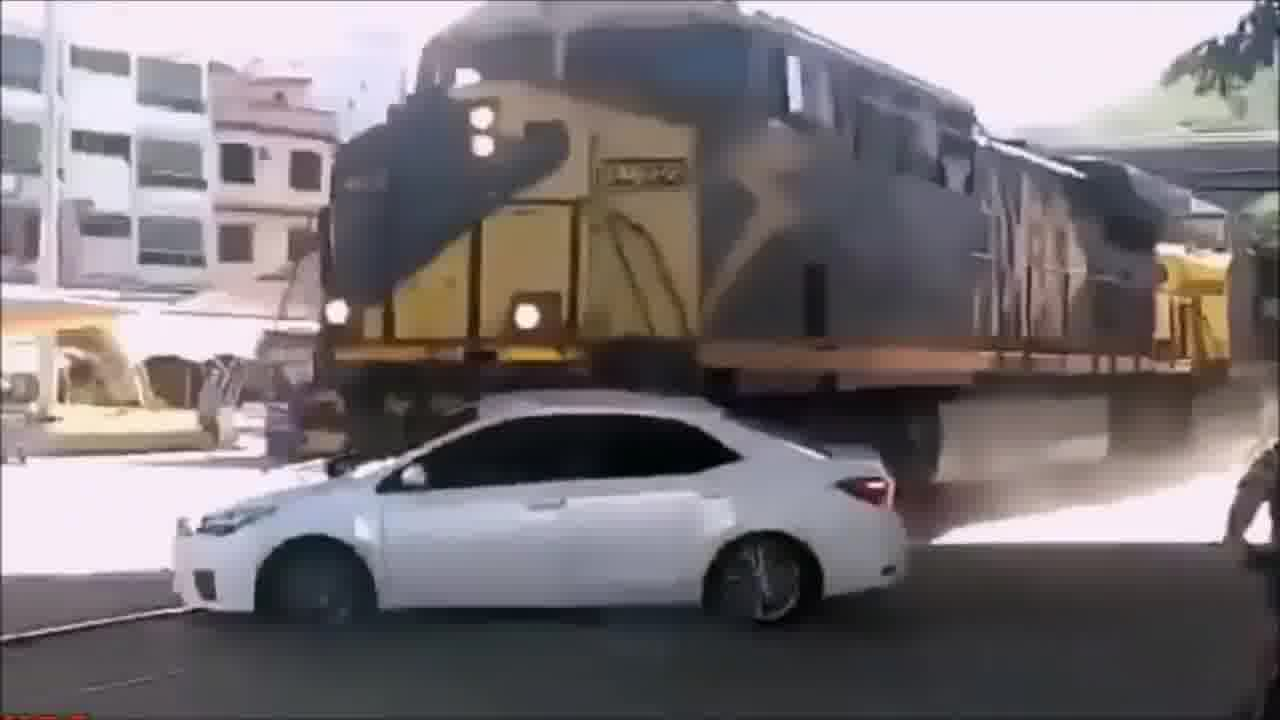crossing railway track: (153, 363, 977, 644)
